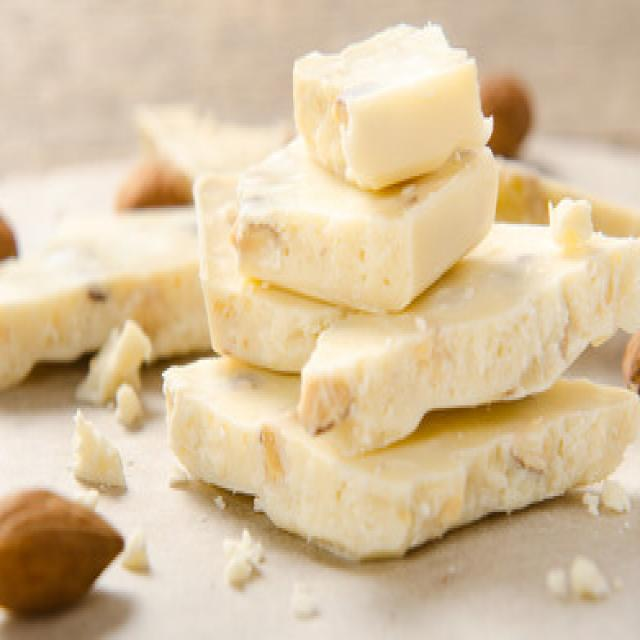chocolate: (168, 5, 640, 566), (0, 208, 211, 396)
